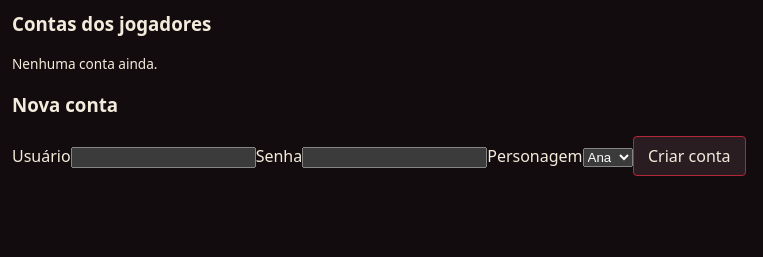
AccountsPanel › senha curta não chega ao servidor
Expected: the text "Nenhuma conta ainda." is shown, [12, 54, 158, 73]
Type "beto" into the field labelled "Usuário". click: x=163, y=157
box: [71, 147, 256, 168]
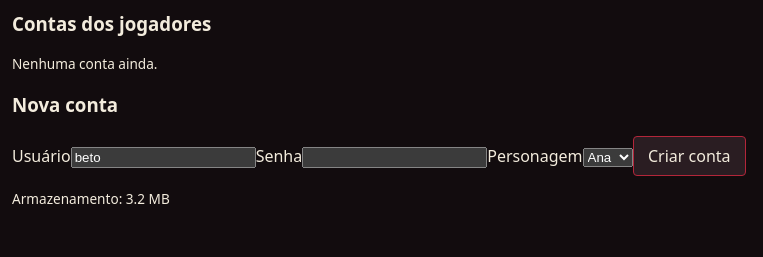
Type "123" into the password field labelled "Senha". click: x=395, y=157
box: [302, 147, 487, 168]
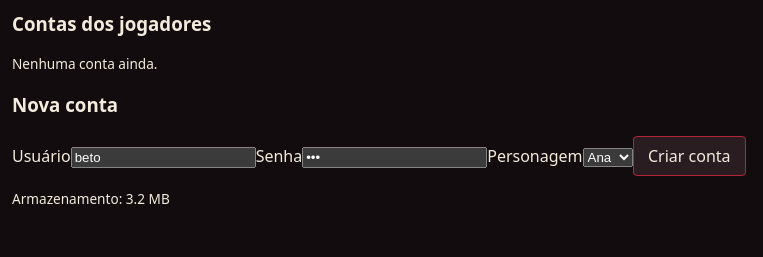
Click the button "Criar conta". click: x=689, y=156
box: [633, 136, 746, 176]
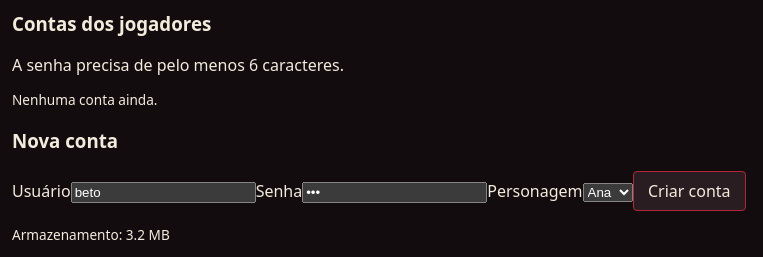
Now the message reads "A senha precisa de pelo menos 6 caracteres.", box [12, 54, 344, 76]
